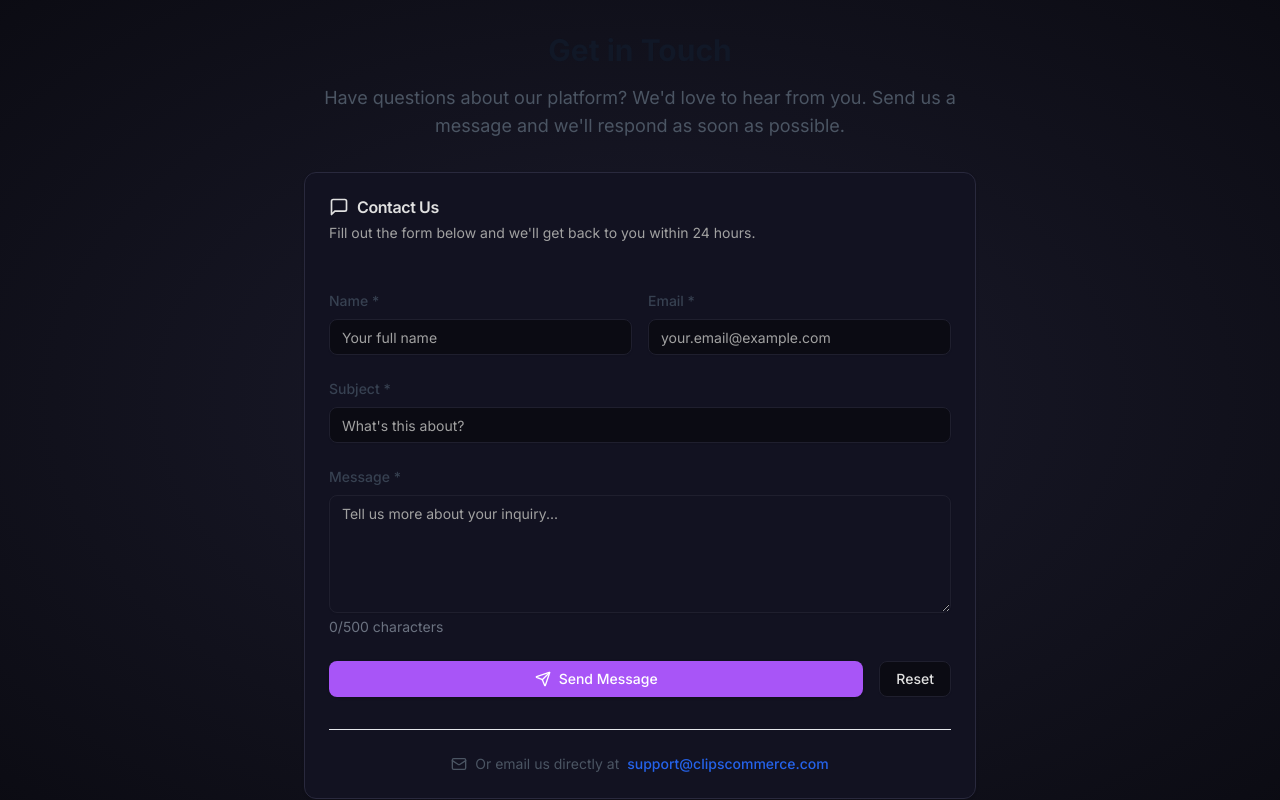
it: ContactSection › Form Validation › should clear validation errors when user starts typing
# Submit empty form to trigger validation
Click the button "Send Message" at [596, 679], box left=329, top=661, right=863, bottom=697
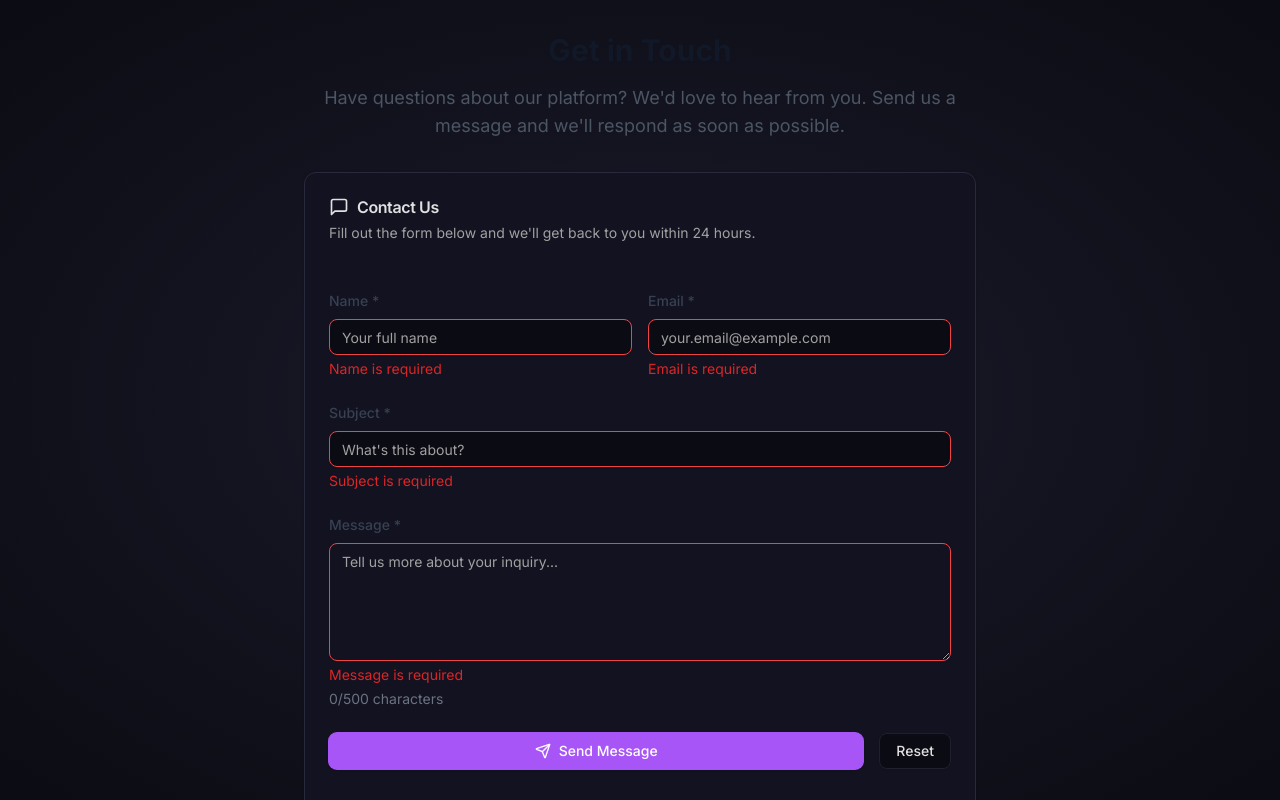
expect the text "Name is required" is shown: met, box left=329, top=360, right=442, bottom=377
# Start typing in name field
Type "J" into the field labelled "Name *" at [480, 337], box left=329, top=319, right=632, bottom=355
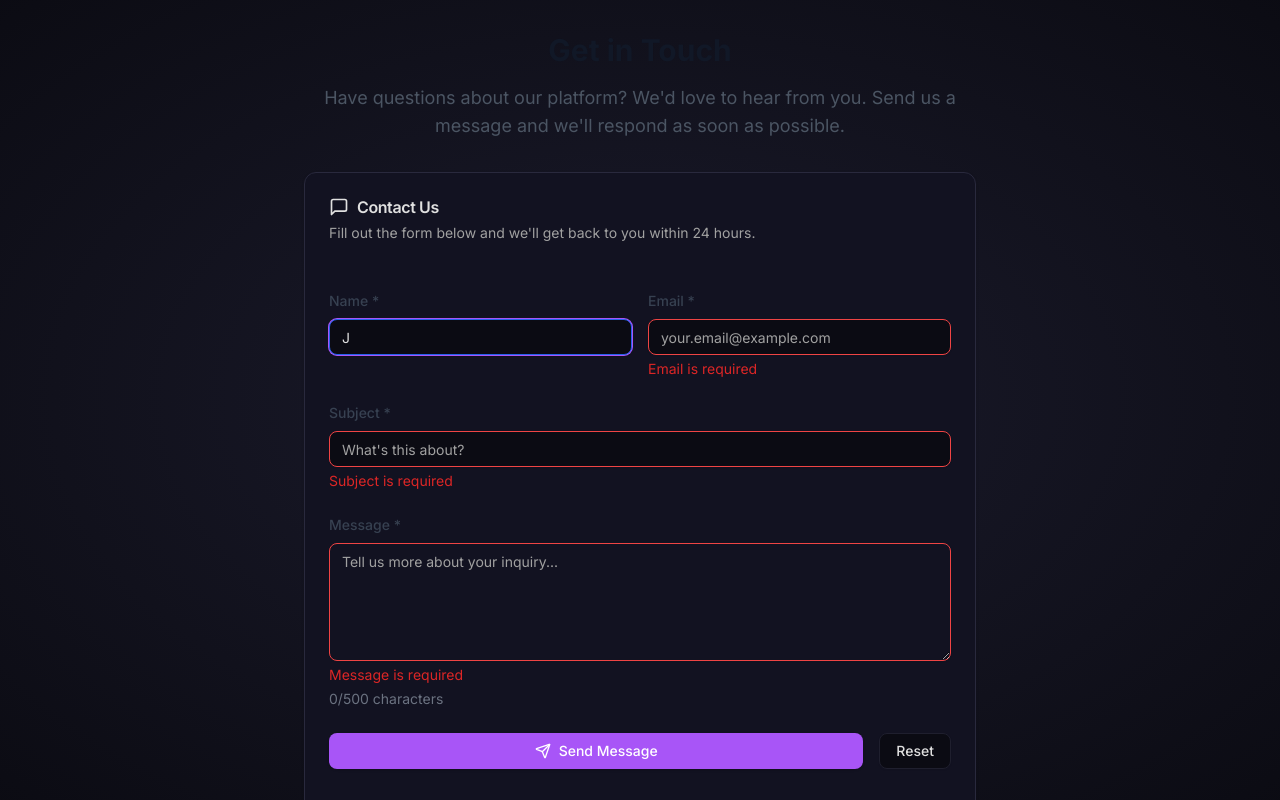
expect the text "Name is required" is gone: met
